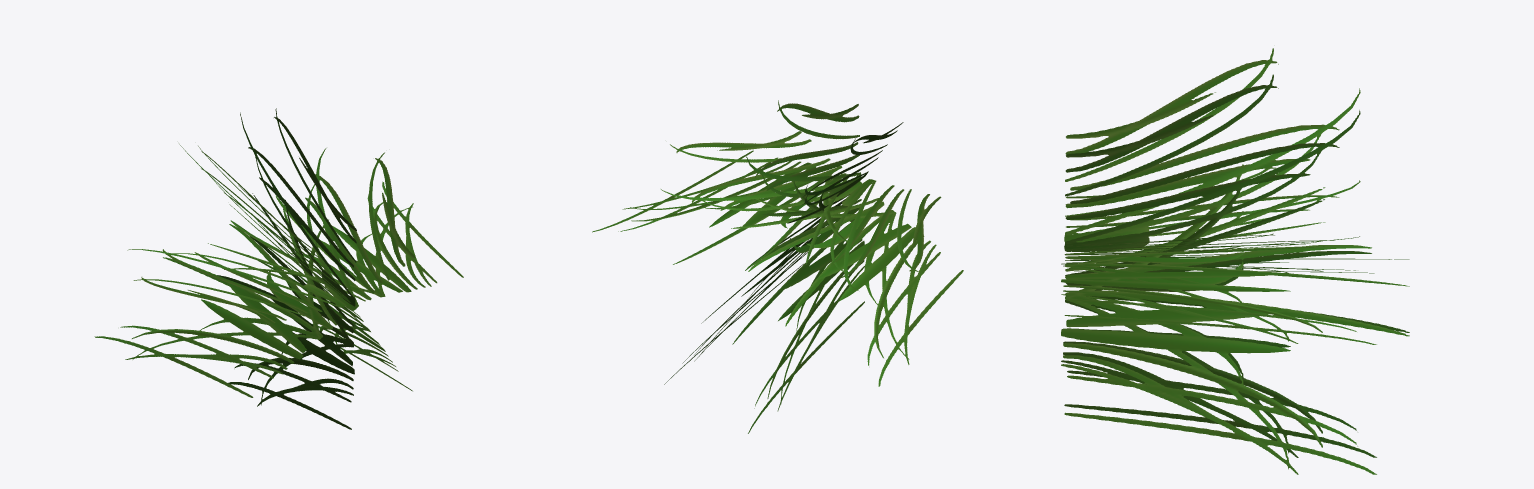
File: grass1.glb
The picture shows the model from 3 angles, left to right: view 1: azimuth 30°, elevation 25°; view 2: azimuth 150°, elevation 25°; view 3: azimuth 270°, elevation 25°; orthographic projection. The views are drawn at different scales.
Visible parts, largest first — view 1: grass1; view 2: grass1; view 3: grass1.
Boxes of the visible parts, x1,y1,x2,y2 form: grass1: (94,108,463,429); grass1: (592,100,963,433); grass1: (1061,48,1409,474).
Bounding box in the file's own units: 9.27 × 9.27 × 9.27.
Materials: 1 (1 with a texture image).
